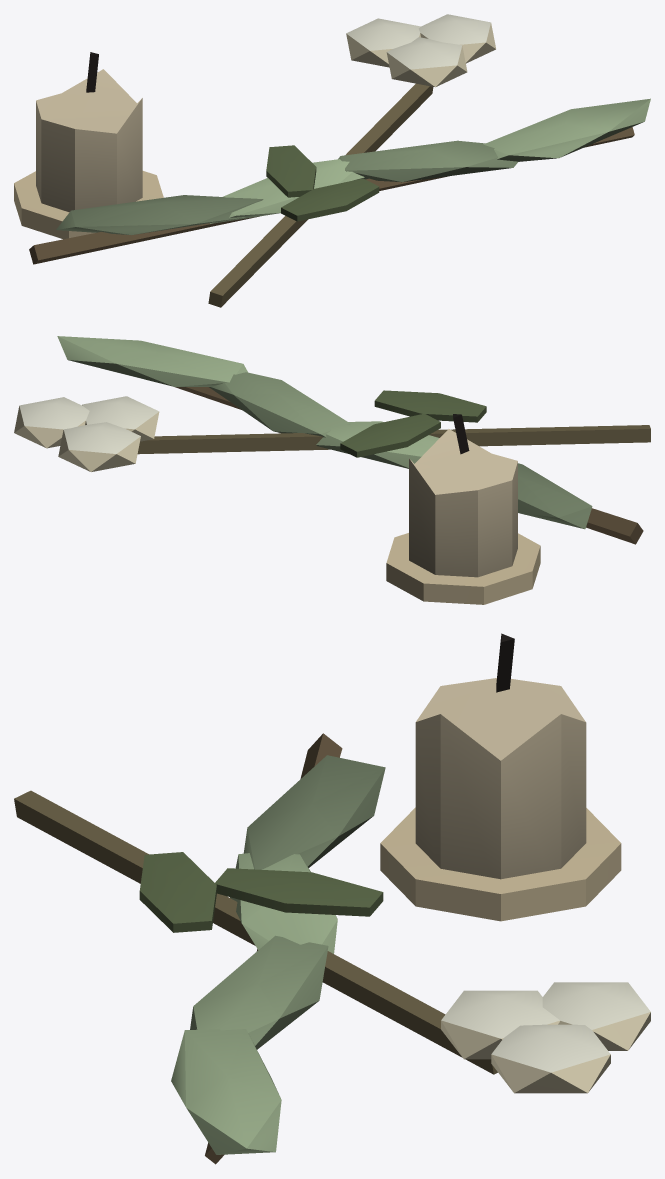
The model's file is ph_prop_layout_sprig.glb.
3 renders of one model, top to bottom at view 1: azimuth 30°, elevation 25°; view 2: azimuth 150°, elevation 25°; view 3: azimuth 270°, elevation 25°, orthographic. The views are drawn at different scales.
Parts seen in each view (by area): view 1: ph_prop_layout_sprig; view 2: ph_prop_layout_sprig; view 3: ph_prop_layout_sprig.
Part boxes in pixels (x1,y1,x2,y2): ph_prop_layout_sprig: (14, 14, 650, 307); ph_prop_layout_sprig: (14, 336, 650, 604); ph_prop_layout_sprig: (14, 633, 650, 1164).
Bounding box in the file's own units: 0.2107 × 0.0523 × 0.1269.
